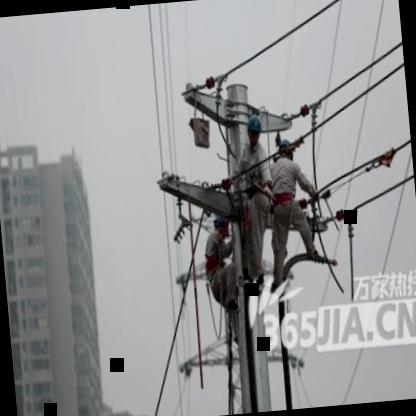helmet: (244, 112, 266, 148), (210, 209, 233, 242), (277, 132, 298, 162)
